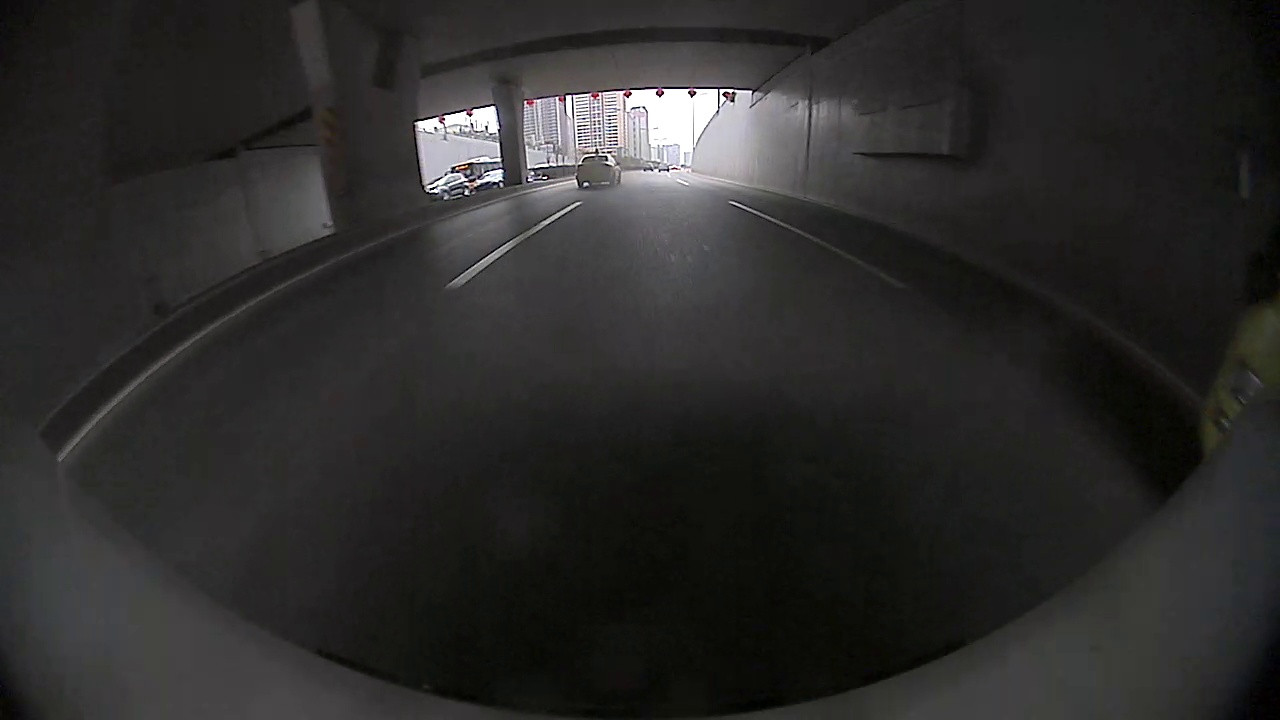bus: (443, 153, 506, 192)
car: (573, 149, 623, 190), (423, 171, 473, 203)
